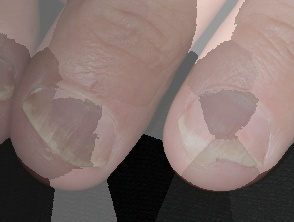Nail_psoriasis: (0, 76, 128, 201), (157, 97, 271, 198)
